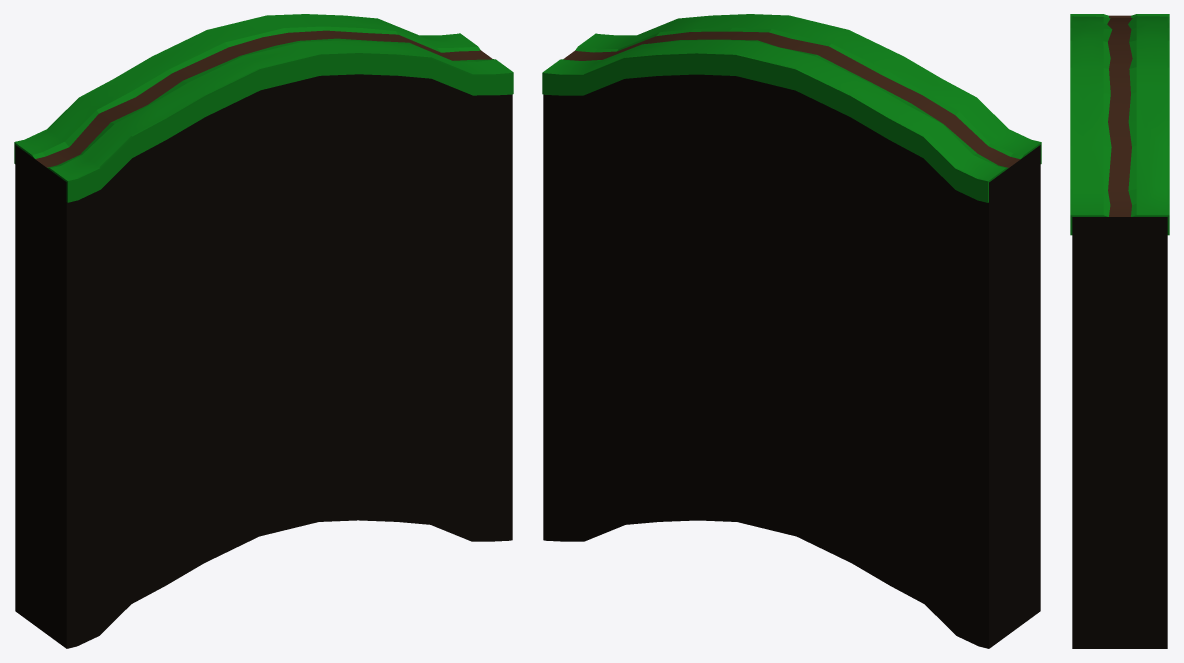
Rendered from blockBump02.fbx.
The picture shows the model from 3 angles, left to right: view 1: azimuth 30°, elevation 25°; view 2: azimuth 150°, elevation 25°; view 3: azimuth 270°, elevation 25°; orthographic projection. The views are drawn at different scales.
Visible parts, largest first — view 1: Box001; view 2: Box001; view 3: Box001.
Part boxes in pixels (x1,y1,x2,y2): Box001: [14, 14, 513, 648]; Box001: [542, 14, 1041, 648]; Box001: [1070, 14, 1169, 648].
Bounding box in the file's own units: 50 × 10.41 × 57.31.
